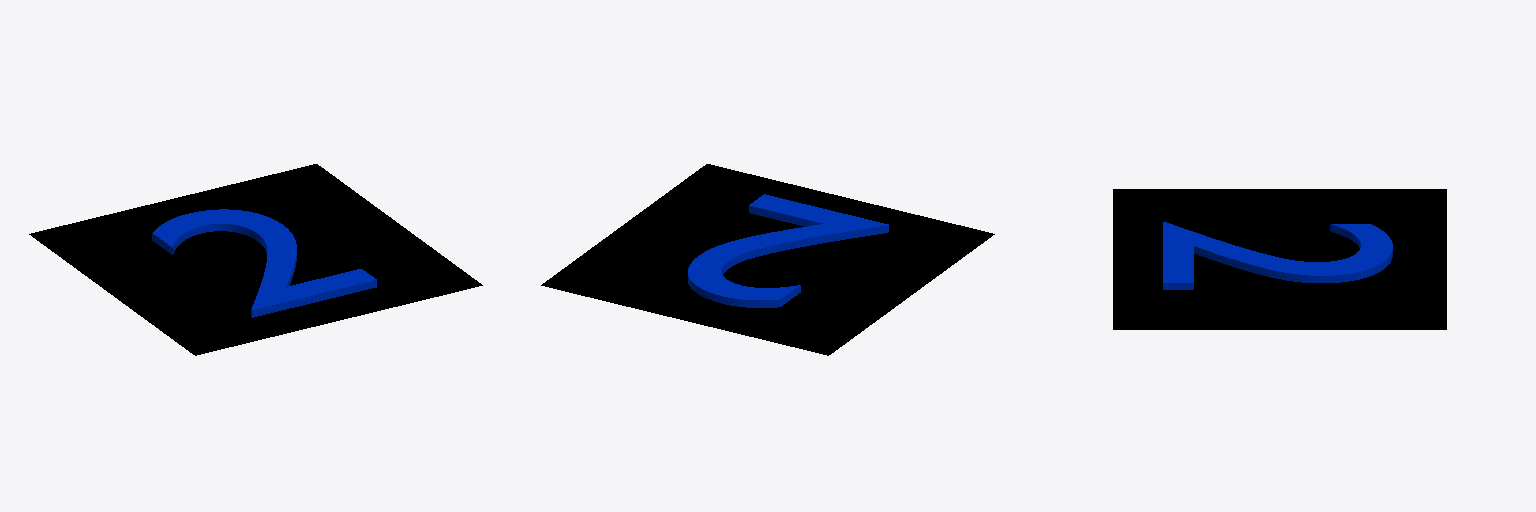
The model's file is TileTwo.obj.
3 views of the same model, side by side, from view 1: azimuth 30°, elevation 25°; view 2: azimuth 150°, elevation 25°; view 3: azimuth 270°, elevation 25° (orthographic).
Bounding box in the file's own units: 20 × 0.5 × 20.